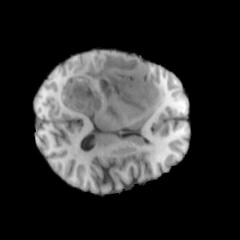glioma: (58, 51, 164, 124)
